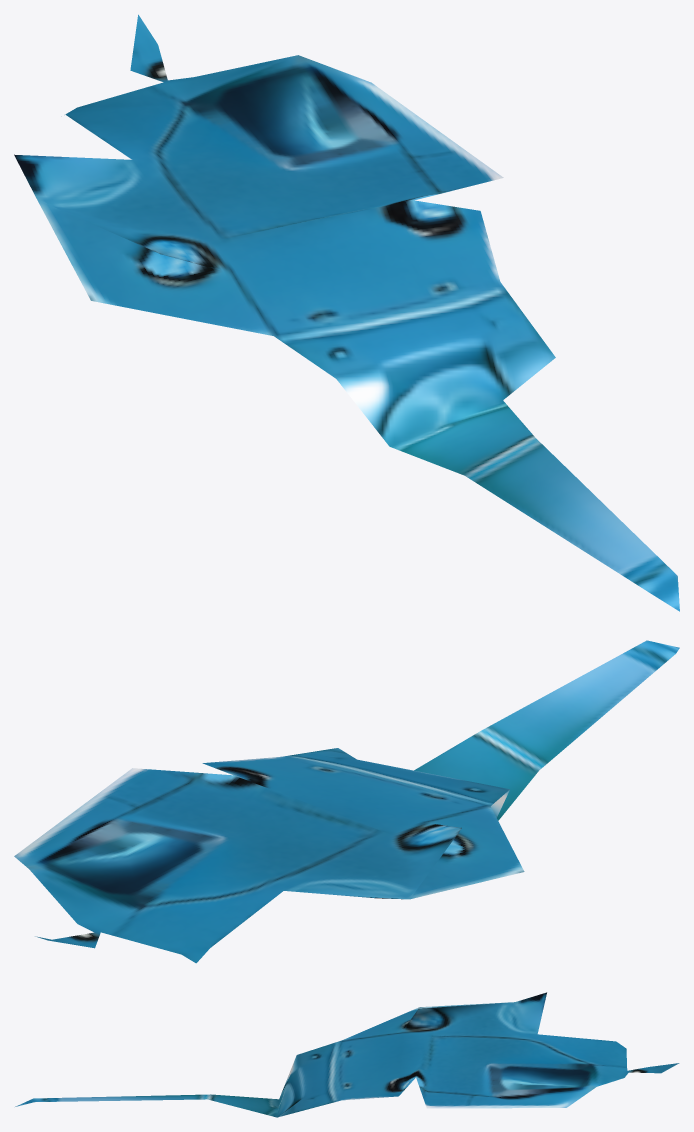
The model's file is turret.glb.
The picture shows the model from 3 angles, top to bottom: view 1: azimuth 30°, elevation 25°; view 2: azimuth 150°, elevation 25°; view 3: azimuth 270°, elevation 25°; orthographic projection. The views are drawn at different scales.
Visible parts, largest first — view 1: Turret; view 2: Turret; view 3: Turret.
Part boxes in pixels (bbox=[...]): Turret: bbox=[14, 14, 679, 611]; Turret: bbox=[14, 640, 679, 963]; Turret: bbox=[15, 992, 679, 1117].
Bounding box in the file's own units: 1.08 × 0.3403 × 2.76.
1 material, 1 textured.
